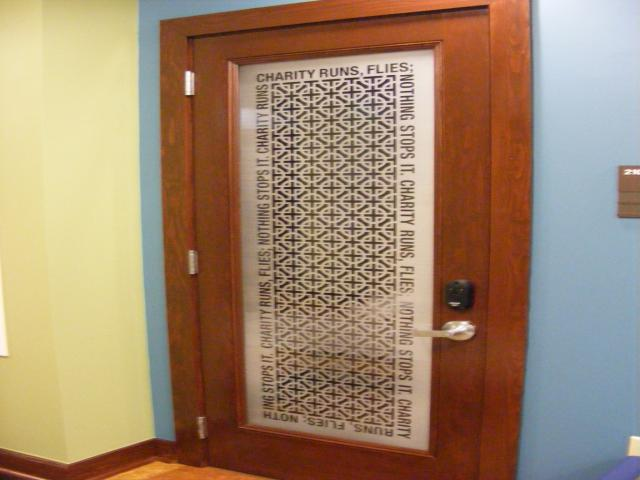Door-handle: (410, 320, 475, 340)
